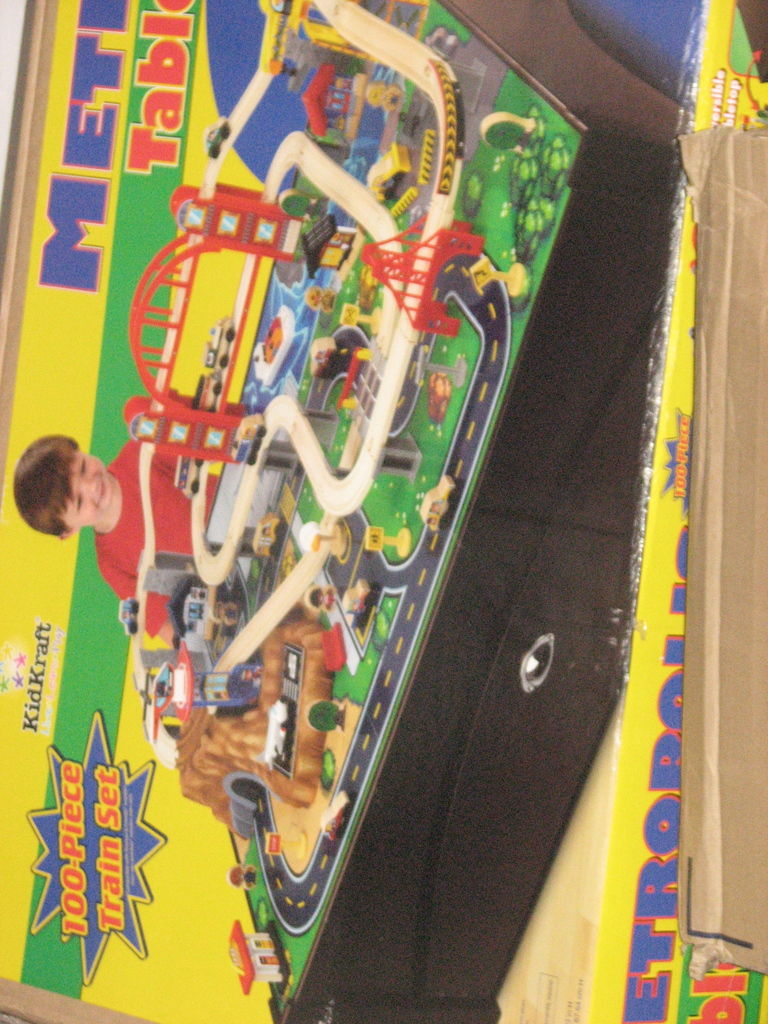person: (8, 424, 324, 764)
